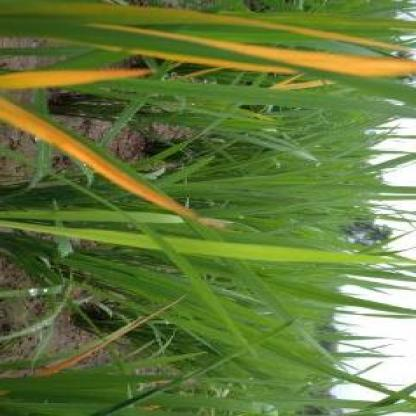Tungro: (1, 93, 186, 218), (64, 25, 416, 77), (1, 67, 160, 98)
